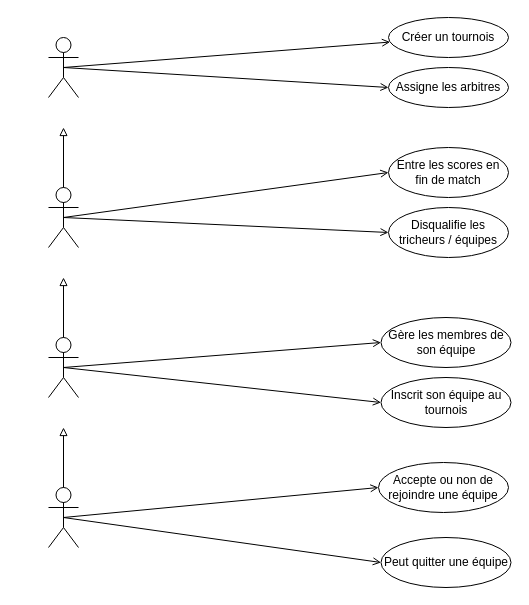
This 529x605 diagram has some shape labels left out. Each missing label, with the centre of its shape:
"Arbitre" belongs at pixel 63 217.
"Chef d'équipe" belongs at pixel 63 367.
"Membre d'équipe" belongs at pixel 63 517.
"Organisateur" belongs at pixel 63 67.
